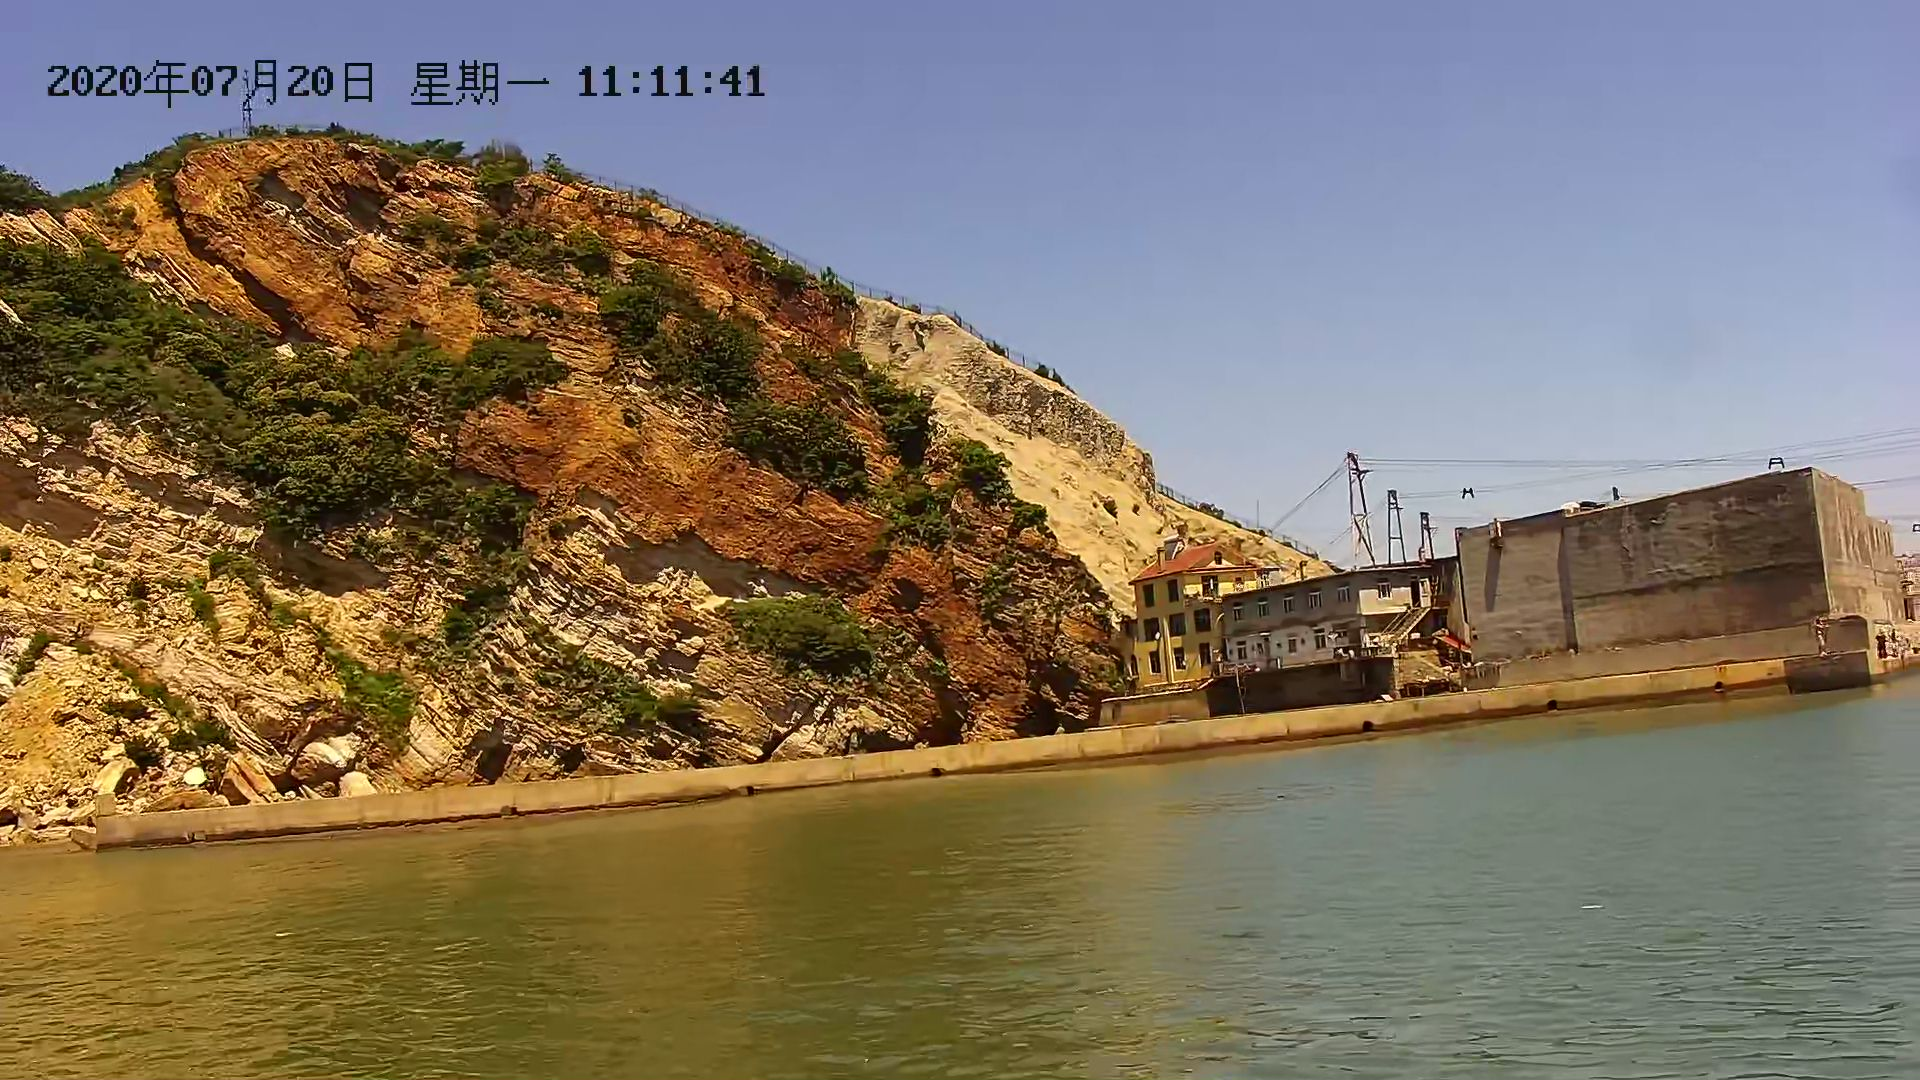platform: (1147, 502, 1920, 719)
